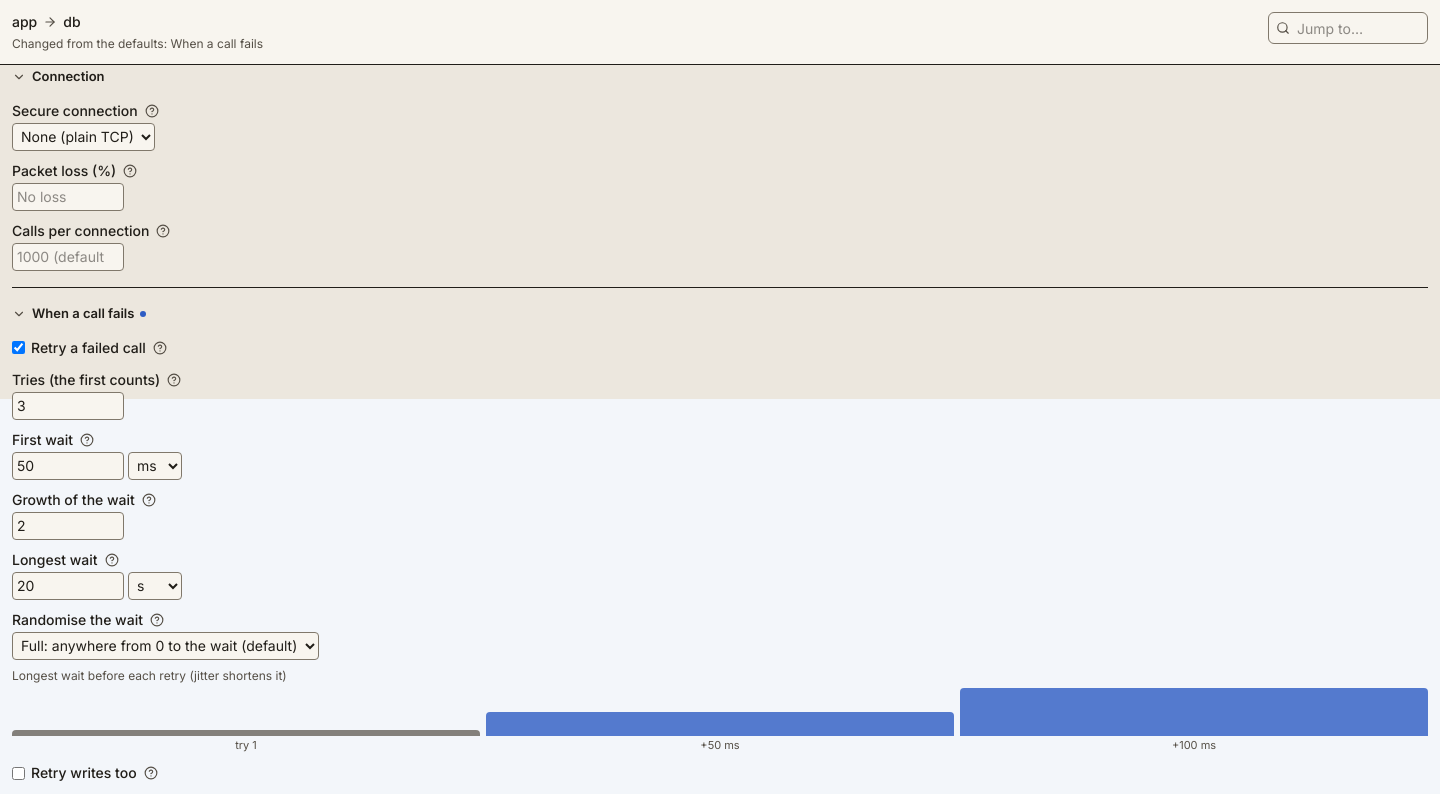
a_count_outside_the_loaders_range_is_never_sent
The width and height of the screenshot is (1440, 794).
(page scrolled)
Replace the text in the number field labelled "Tries (the first counts)" with "9" at (68, 406), box [12,392,124,420]
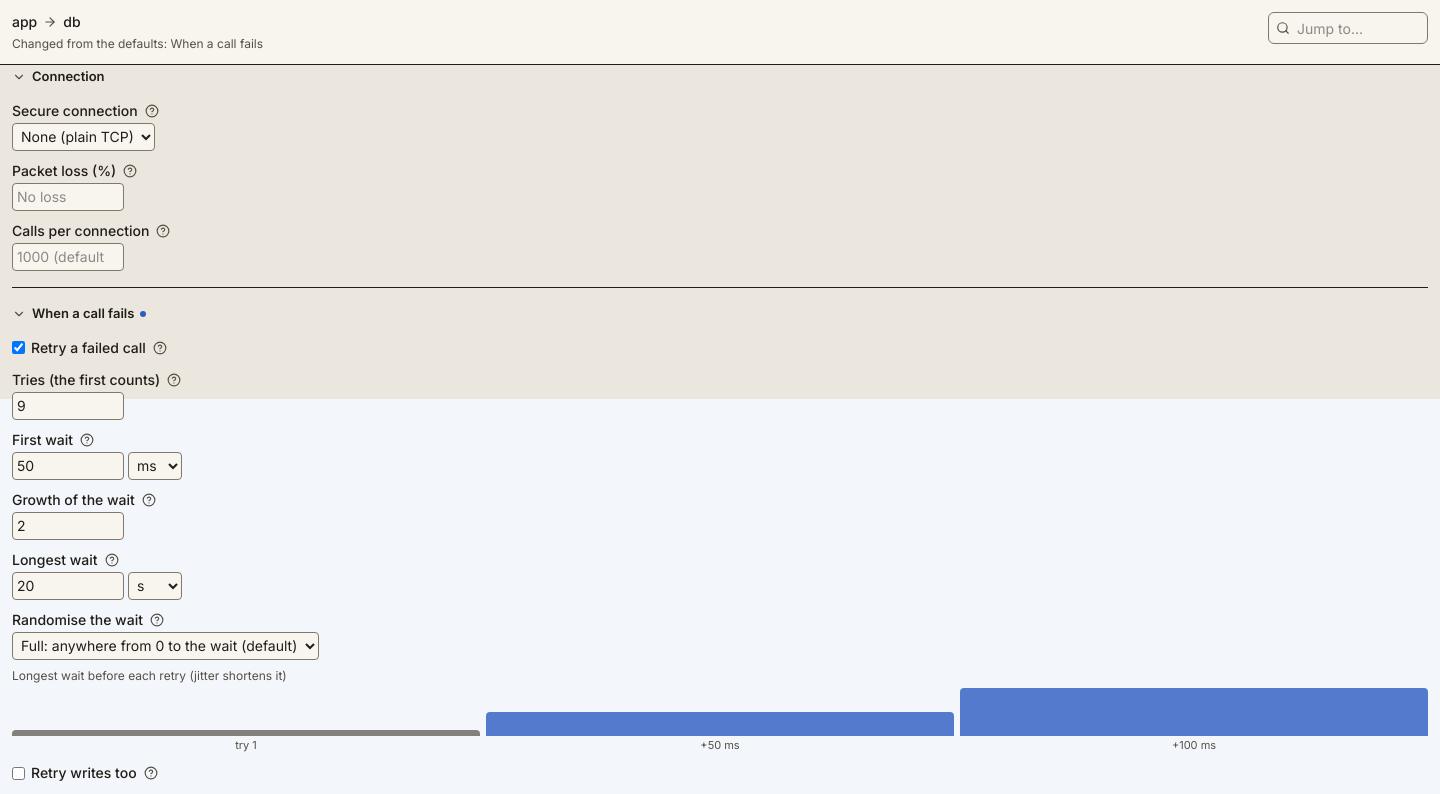
Leave the number field labelled "Tries (the first counts)", box [12,392,124,420]
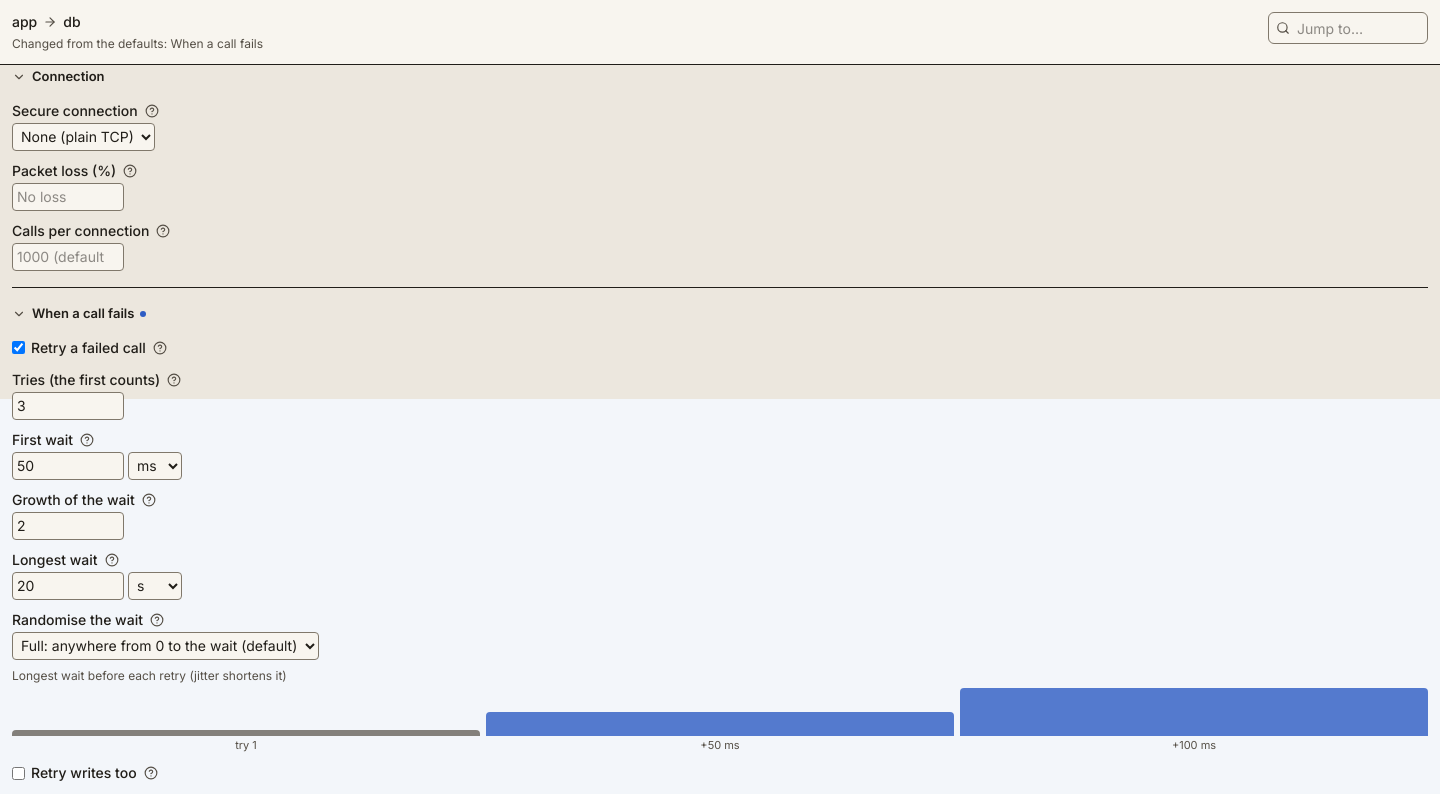
Now the number field labelled "Tries (the first counts)" holds "3", box [12,392,124,420]
